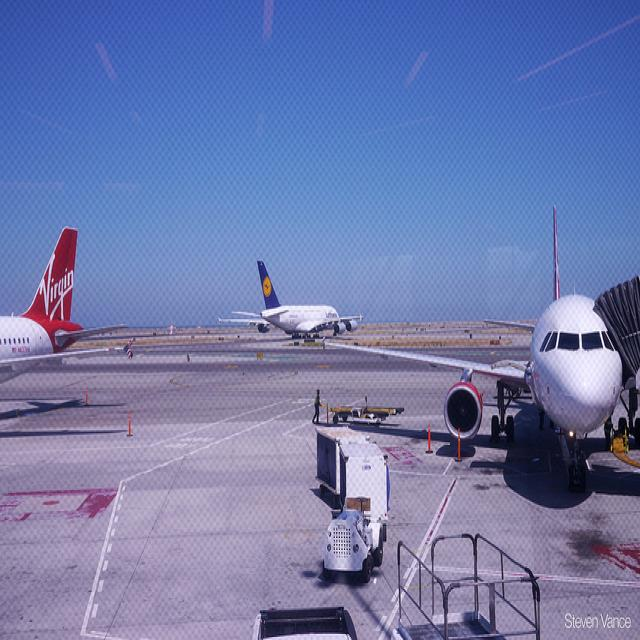Vehicle: (315, 425, 389, 585)
